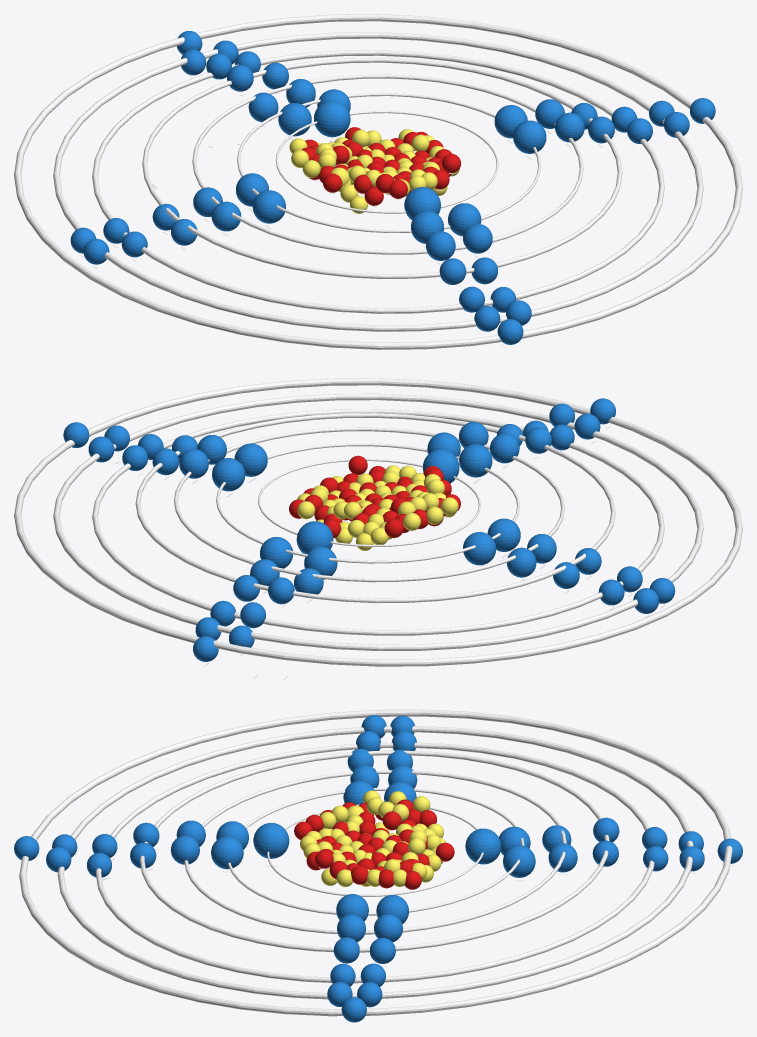
3 renders of one model, top to bottom at view 1: azimuth 30°, elevation 25°; view 2: azimuth 150°, elevation 25°; view 3: azimuth 270°, elevation 25°, orthographic. The views are drawn at different scales.
Parts seen in each view (by area): view 1: Torus.007, Torus.006, Torus.005, Torus.004, Torus.003, Torus.002, Torus.001, g, g.005, g.003, g.008, g.001 (+17 smaller); view 2: Torus.007, Torus.006, Torus.005, Torus.004, Torus.003, Torus.002, Torus.001, g, g.006, g.004, g.002, g.005 (+30 smaller); view 3: Torus.007, Torus.006, Torus.005, Torus.004, Torus.003, Torus.002, g.001, g, Torus.001, g.007, g.009, g.015 (+10 smaller).
Boxes of the visible parts, x1,y1,x2,y2 form: Torus.007: (14, 14, 742, 349); Torus.006: (53, 32, 703, 331); Torus.005: (92, 50, 664, 313); Torus.004: (142, 58, 622, 278); Torus.003: (192, 74, 583, 254); Torus.002: (237, 93, 540, 232); Torus.001: (275, 111, 498, 213); g: (314, 100, 350, 137); g.005: (513, 120, 546, 153); g.003: (252, 190, 285, 223); g.008: (278, 103, 311, 136); g.001: (404, 187, 440, 220); Torus.007: (14, 378, 742, 666); Torus.006: (53, 393, 703, 650); Torus.005: (92, 409, 664, 635); Torus.004: (135, 413, 615, 602); Torus.003: (174, 427, 564, 582); Torus.002: (216, 443, 519, 563); Torus.001: (258, 458, 480, 546); g: (296, 521, 333, 553); g.006: (459, 444, 492, 477); g.004: (212, 458, 245, 491); g.002: (463, 532, 496, 565); g.005: (234, 443, 267, 476); Torus.007: (19, 709, 732, 1016); Torus.006: (57, 726, 693, 999); Torus.005: (95, 742, 654, 983); Torus.004: (140, 750, 609, 952); Torus.003: (184, 770, 566, 934); Torus.002: (228, 788, 524, 915); g.001: (253, 823, 289, 858); g: (465, 828, 501, 864); Torus.001: (267, 804, 483, 896); g.007: (211, 836, 243, 869); g.009: (503, 845, 535, 877); g.015: (170, 835, 199, 864).
Size of the model in its own units: 19.91 by 2.92 by 20.05.
